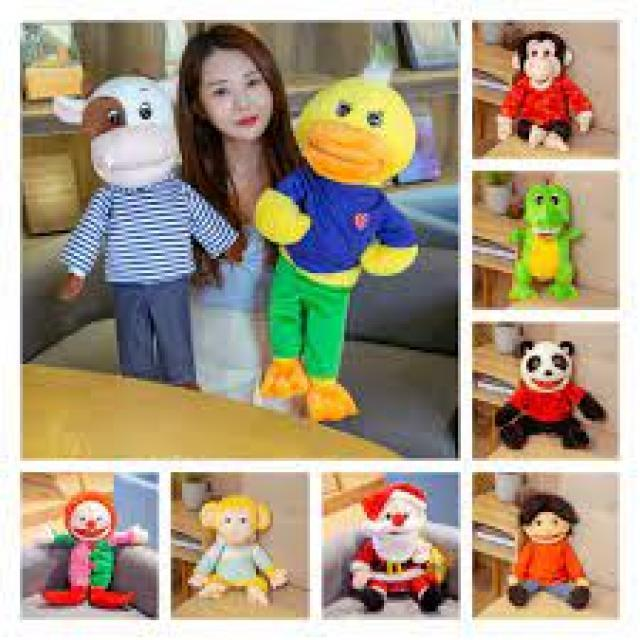soft-toy: (55, 77, 239, 385), (256, 79, 419, 422), (496, 344, 607, 450), (499, 32, 592, 148), (510, 496, 590, 610)
